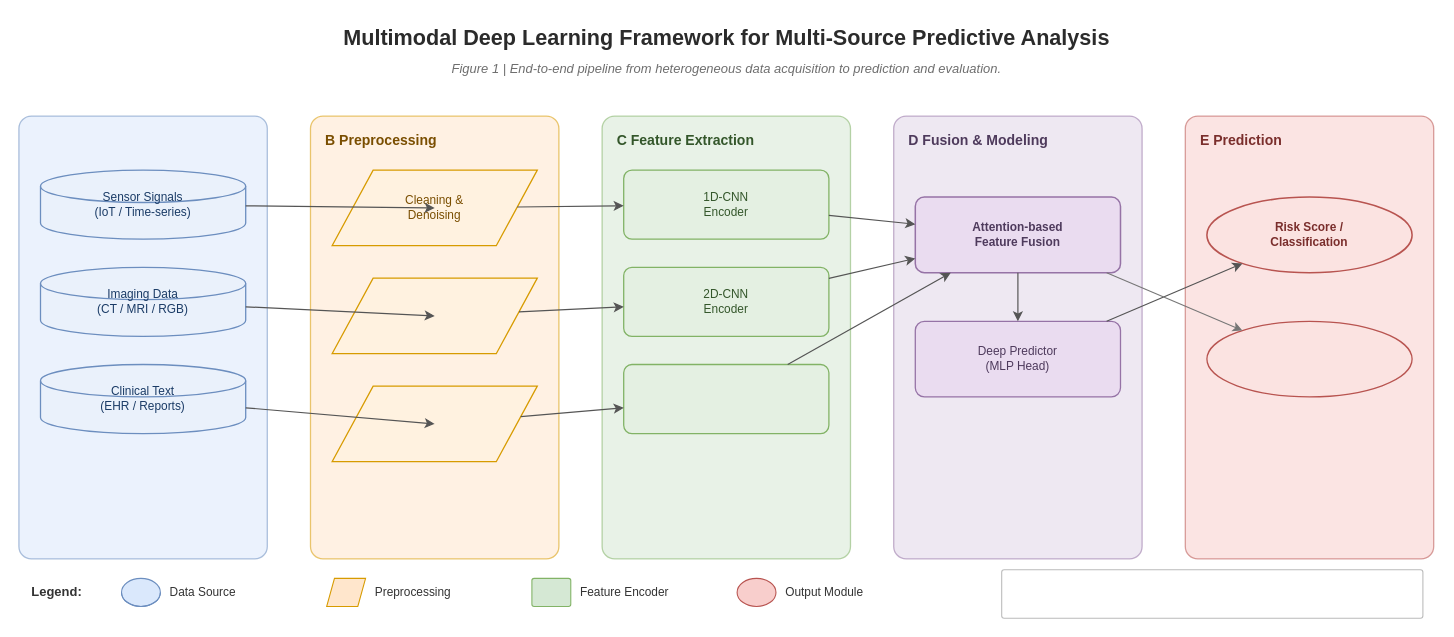
Image size: 1454x637. Some labels were removed from this diagram. The shapes that lost their labels are listed below. From the top down, each one's box as (x1, y1, x2, y2) in pixels, then its label:
(331, 277, 537, 354): Normalization & Alignment
(18, 115, 267, 559): A Data Acquisition
(1206, 320, 1412, 397): Interpretability (SHAP / Grad-CAM)
(623, 363, 829, 434): Transformer Encoder
(331, 385, 537, 462): Augmentation
(1001, 569, 1423, 618): AUC-ROC: 0.942 | F1-Score: 0.918 | Accuracy: 0.927 | Precision: 0.931
